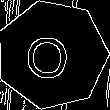O_N: (30, 29, 75, 81)
